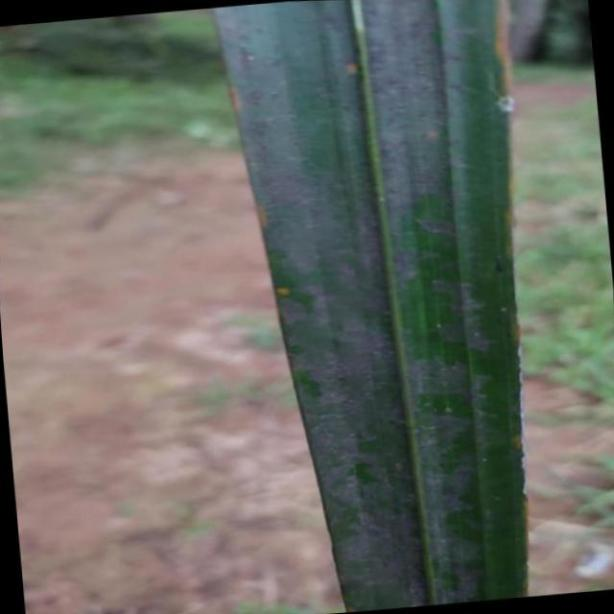Kalium: (208, 5, 529, 614)
